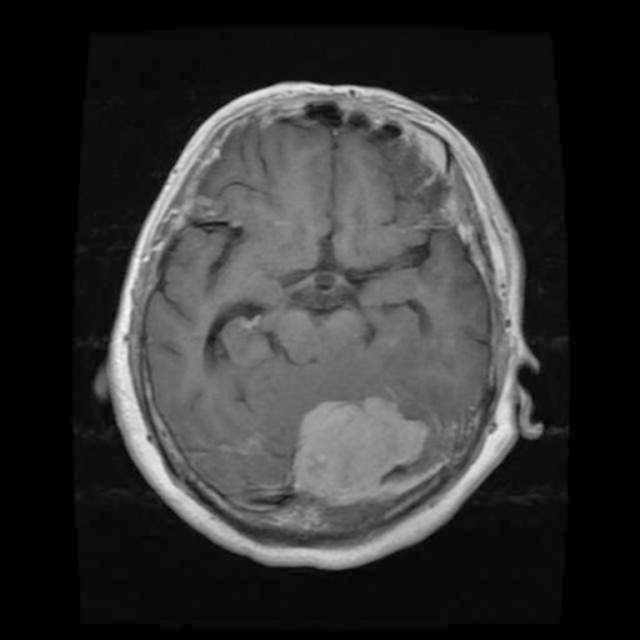meningioma tumor: (281, 388, 440, 503)
